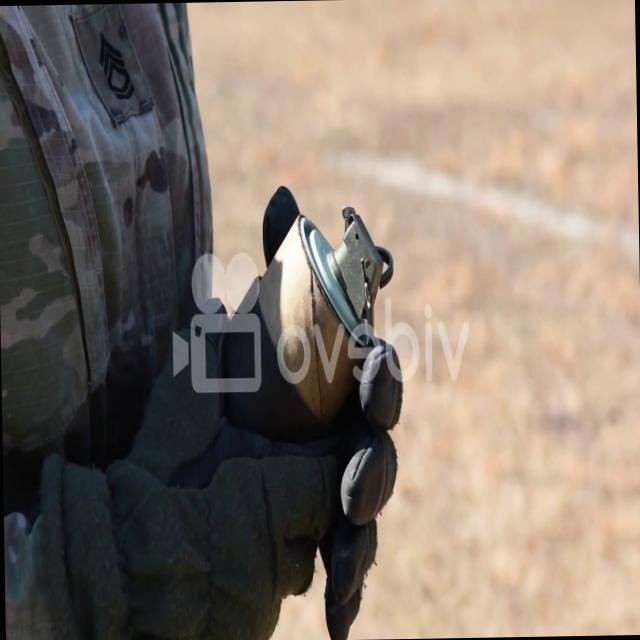grenade: (214, 190, 396, 448)
